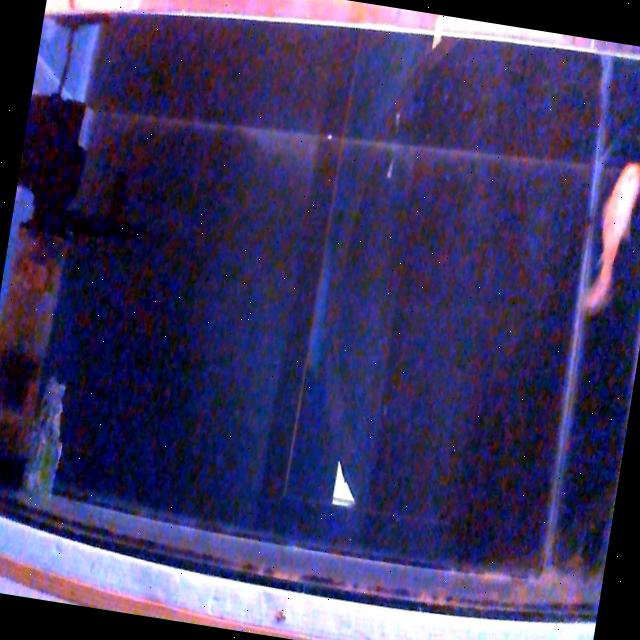fish: (582, 159, 640, 319)
